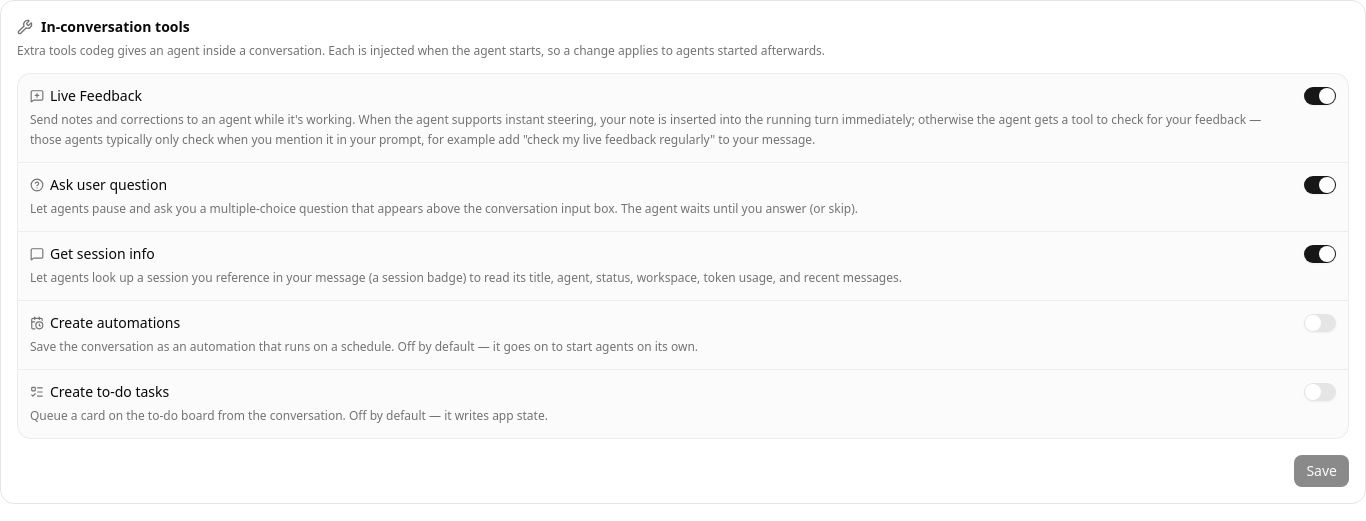
AgentToolsSettingsSection › keeps a pending local edit when a remote write lands
Expected: the 1st switch named "Live Feedback" is checked, [1304,87,1336,105]
Click the switch named "Create automations" in the row of "Create automations" at (1320, 323), box [1304,314,1336,332]
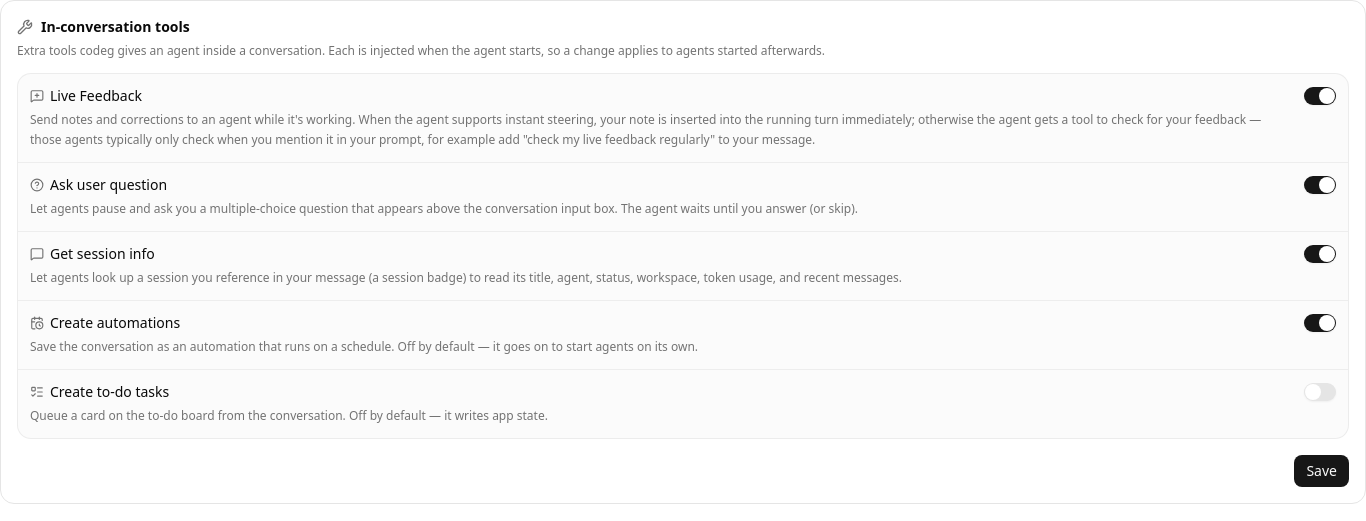
Expected: the switch named "Create automations" in the row of "Create automations" is checked, [1304,314,1336,332]
Click the button "Save" at (1322, 471), box [1294,455,1349,487]
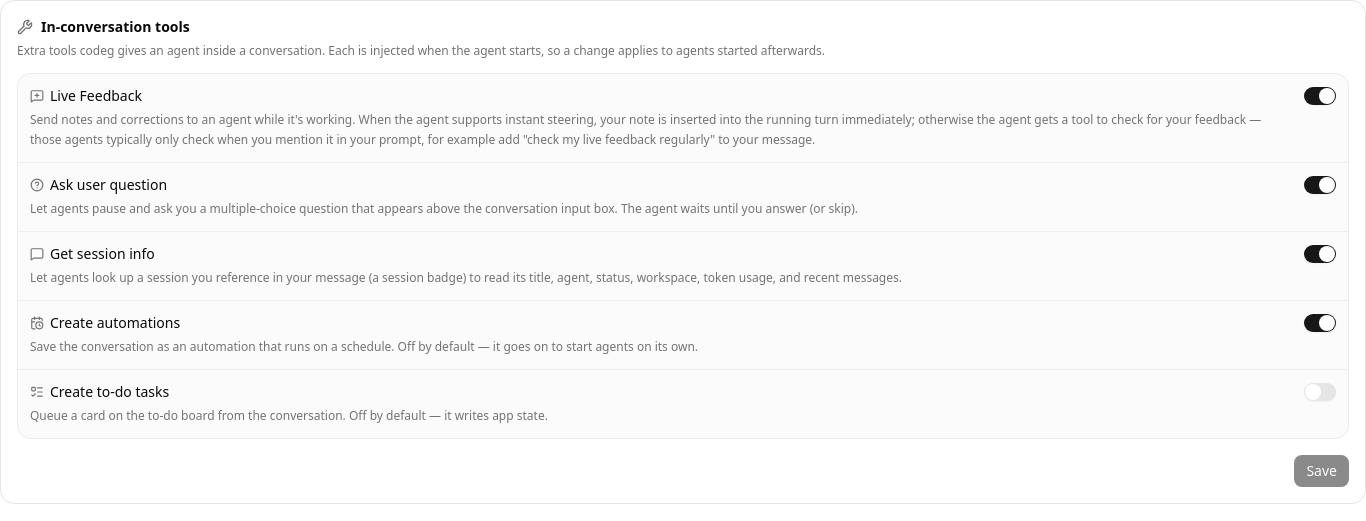
Expected: the button "Save" is disabled, [1294,455,1349,487]
